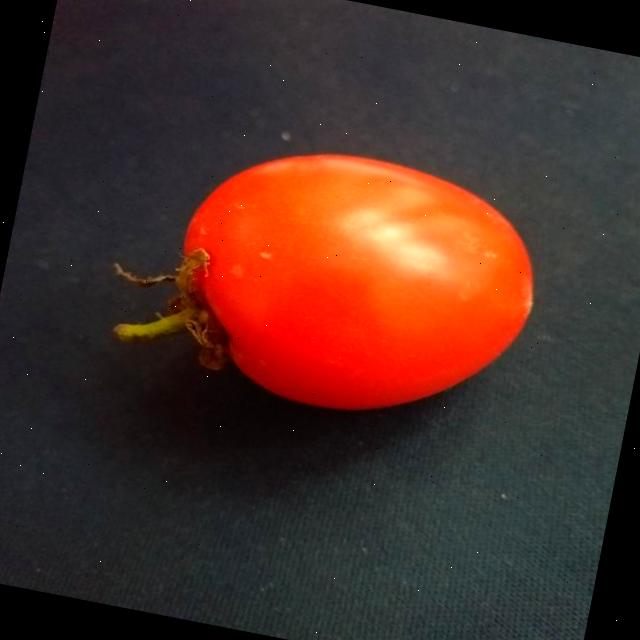tomato: (70, 93, 570, 475)
